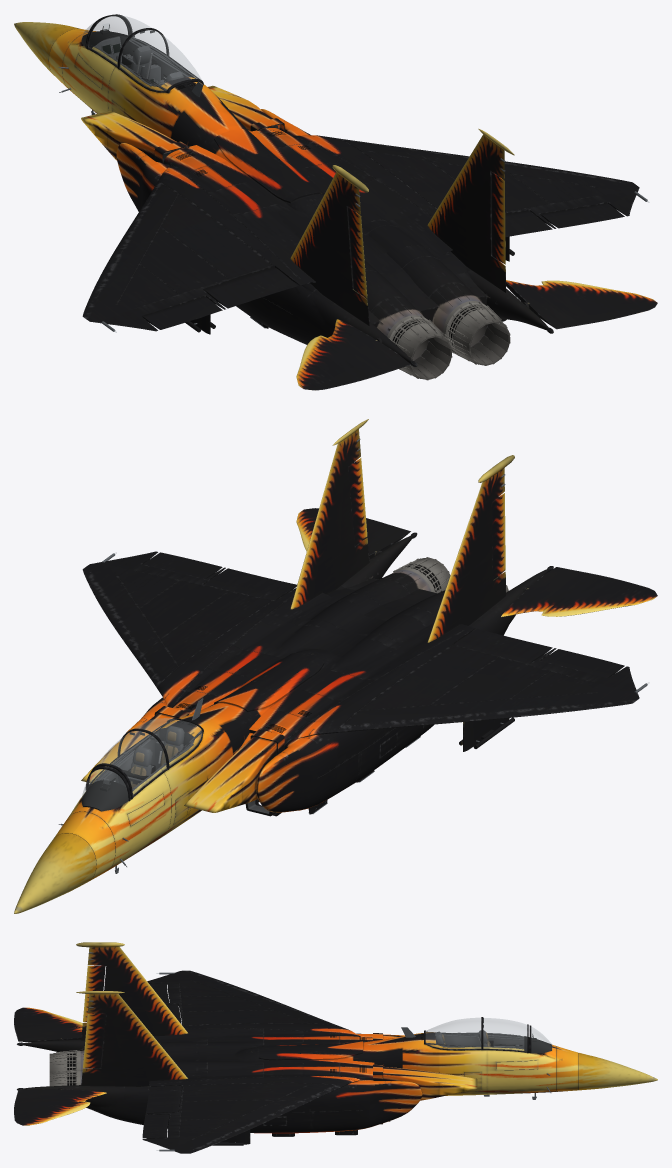
Rendered from f15e.inferno.glb.
3 renders of one model, top to bottom at view 1: azimuth 30°, elevation 25°; view 2: azimuth 150°, elevation 25°; view 3: azimuth 270°, elevation 25°, orthographic. The views are drawn at different scales.
Visible parts, largest first — view 1: F15_skin, fin_r, fin_l, stab_l, canopy_glass, stab_r, speedbrake, nozzle_r, nozzle_l, cockpit_int, inlet_l, flap_l (+7 smaller); view 2: F15_skin, fin_r, fin_l, stab_l, canopy_glass, inlet_l, cockpit_int, speedbrake, flap_l, flap_r, stab_r, screen_glass (+8 smaller); view 3: F15_skin, fin_r, fin_l, canopy_glass, stab_r, stab_l, inlet_r, speedbrake, cockpit_int, rudder_r, flap_r, nozzle_l (+7 smaller).
Boxes of the visible parts, x1=… form: F15_skin: x1=14, y1=22, x2=639, y2=363; fin_r: x1=427, y1=128, x2=514, y2=292; fin_l: x1=290, y1=165, x2=369, y2=325; stab_l: x1=296, y1=319, x2=410, y2=390; canopy_glass: x1=89, y1=15, x2=201, y2=90; stab_r: x1=506, y1=280, x2=657, y2=329; speedbrake: x1=214, y1=129, x2=324, y2=203; nozzle_r: x1=443, y1=301, x2=510, y2=365; nozzle_l: x1=387, y1=315, x2=452, y2=380; cockpit_int: x1=81, y1=23, x2=193, y2=86; inlet_l: x1=81, y1=111, x2=184, y2=162; flap_l: x1=204, y1=267, x2=297, y2=308; F15_skin: x1=14, y1=535, x2=639, y2=913; fin_r: x1=290, y1=419, x2=369, y2=609; fin_l: x1=427, y1=455, x2=514, y2=642; stab_l: x1=501, y1=567, x2=657, y2=617; canopy_glass: x1=90, y1=718, x2=201, y2=794; inlet_l: x1=184, y1=736, x2=277, y2=816; cockpit_int: x1=81, y1=726, x2=193, y2=811; speedbrake: x1=214, y1=653, x2=324, y2=711; flap_l: x1=454, y1=628, x2=552, y2=663; flap_r: x1=205, y1=568, x2=296, y2=600; stab_r: x1=296, y1=508, x2=410, y2=559; screen_glass: x1=82, y1=769, x2=127, y2=810; F15_skin: x1=23, y1=970, x2=657, y2=1153; fin_r: x1=76, y1=991, x2=187, y2=1086; fin_l: x1=76, y1=942, x2=187, y2=1040; canopy_glass: x1=426, y1=1018, x2=526, y2=1050; stab_r: x1=14, y1=1089, x2=106, y2=1125; stab_l: x1=14, y1=1007, x2=82, y2=1041; inlet_r: x1=383, y1=1066, x2=477, y2=1121; speedbrake: x1=258, y1=1041, x2=362, y2=1060; cockpit_int: x1=435, y1=1030, x2=551, y2=1053; rudder_r: x1=83, y1=1013, x2=105, y2=1068; flap_r: x1=146, y1=1085, x2=181, y2=1113; nozzle_l: x1=49, y1=1050, x2=80, y2=1072.
Size of the model in its own units: 13.05 by 4.8 by 19.43.
Materials: 2 (1 with a texture image).
